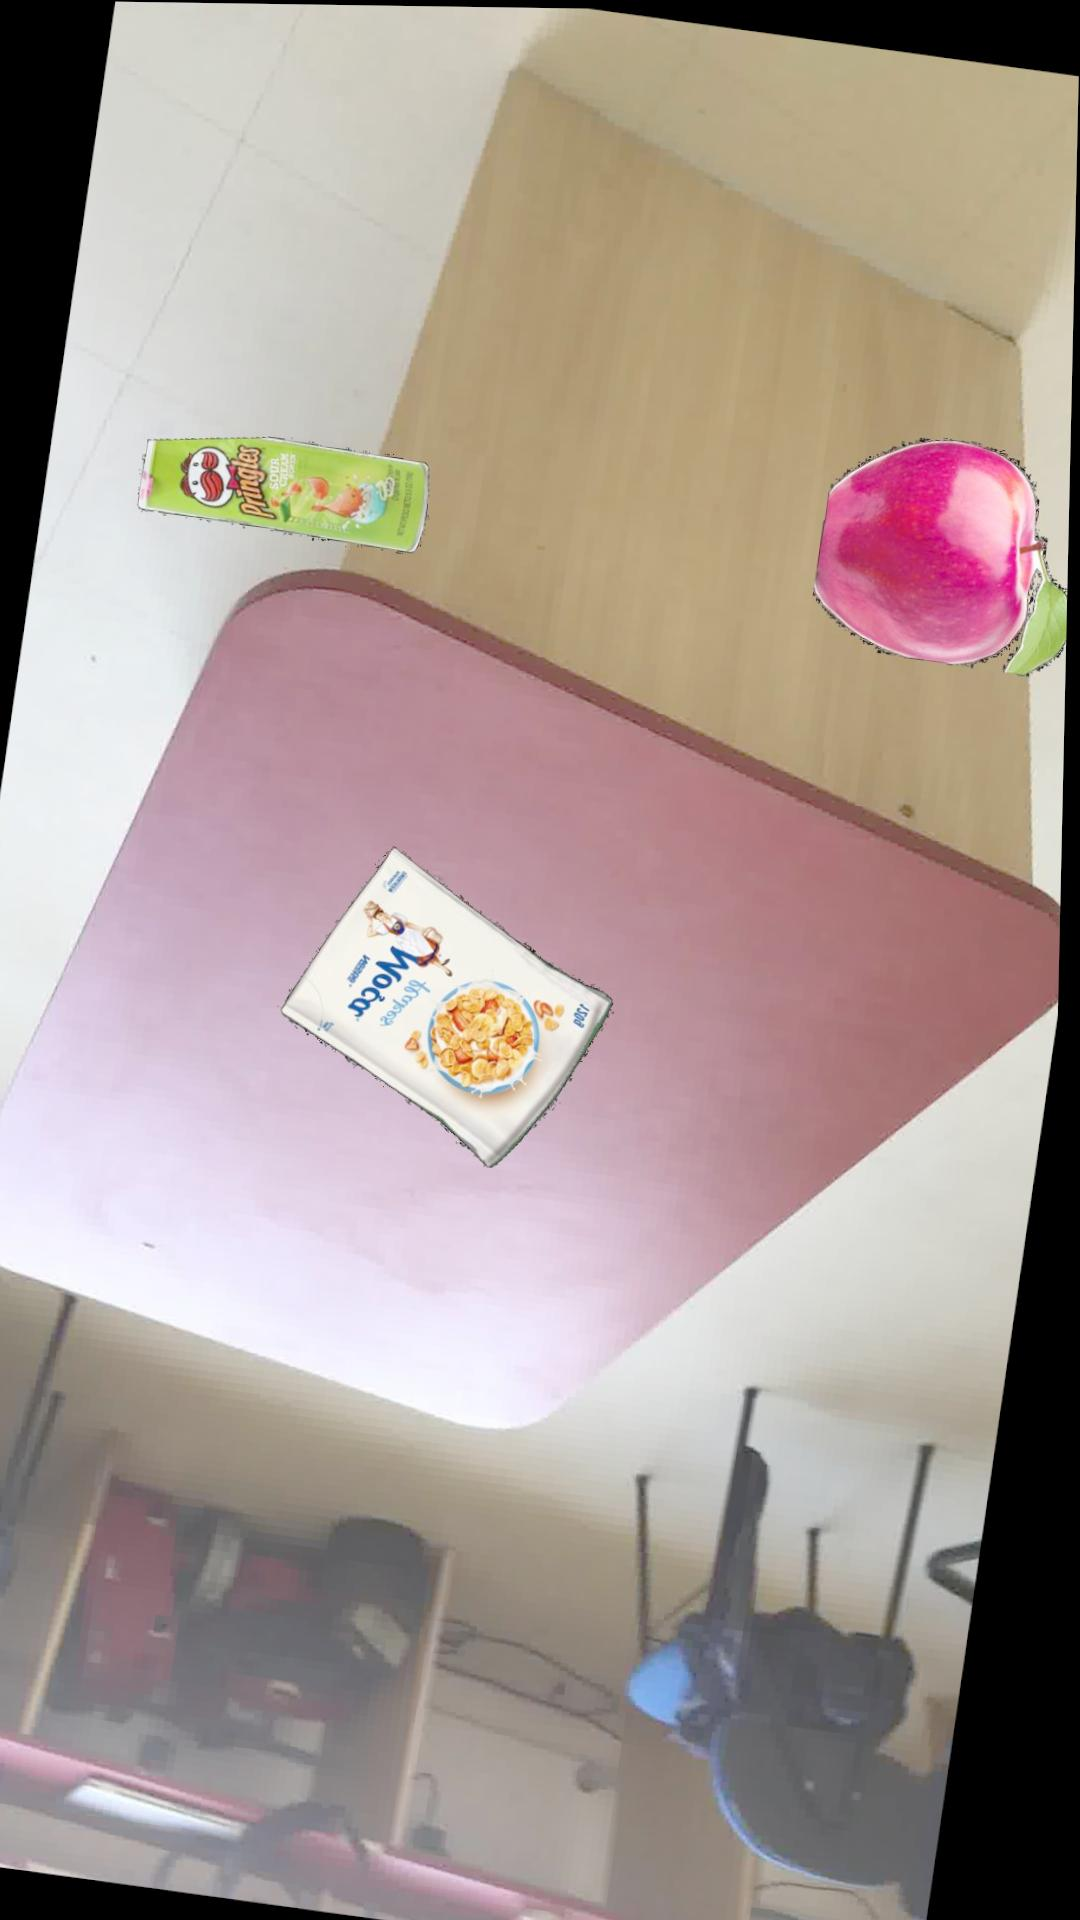apple: (816, 435, 1069, 674)
corn flakes: (286, 847, 617, 1166)
pringles: (140, 436, 431, 553)
